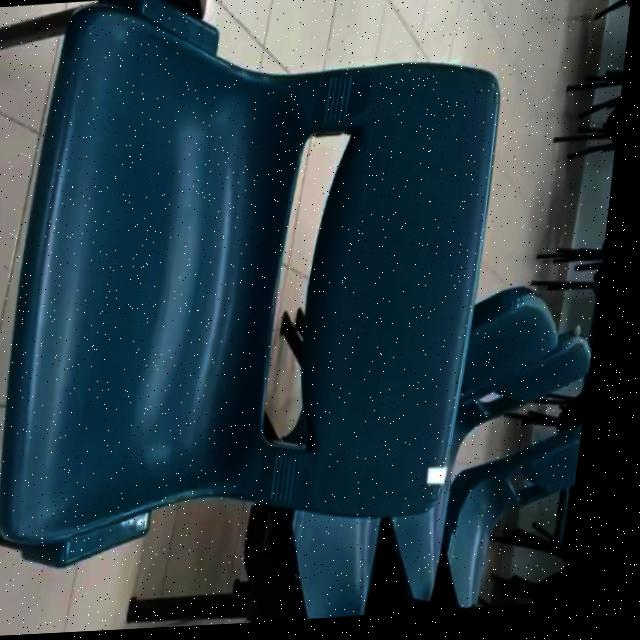sandalye: (0, 0, 502, 566)
